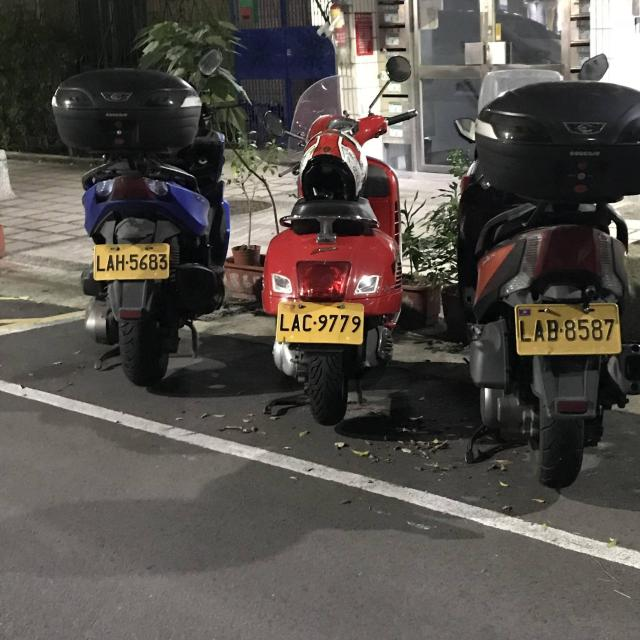Y: (509, 296, 626, 362), (271, 290, 370, 349), (88, 237, 176, 286)
